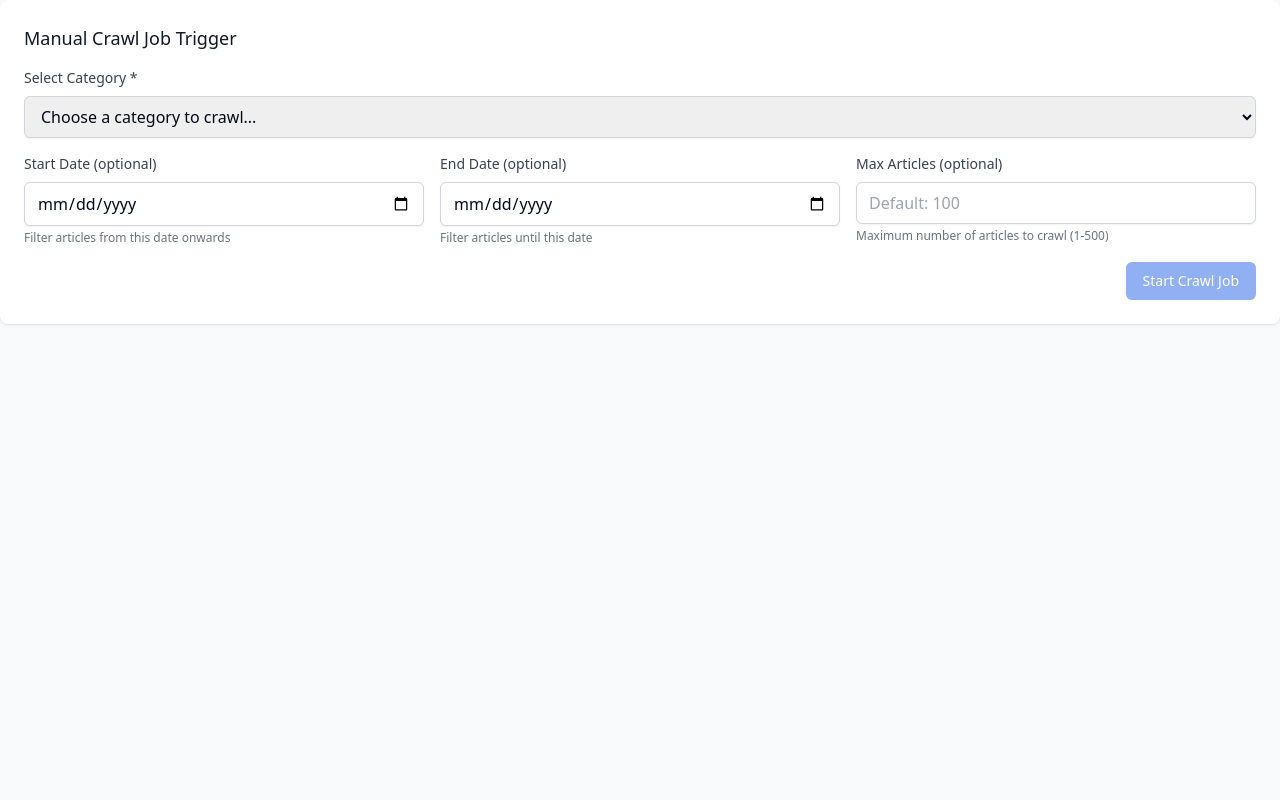
Test: ManualCrawlTrigger › should cancel confirmation dialog
Select "Technology (2 keywords)" in the dropdown labelled "Select Category *": {"x": 640, "y": 117} left=24, top=96, right=1256, bottom=138
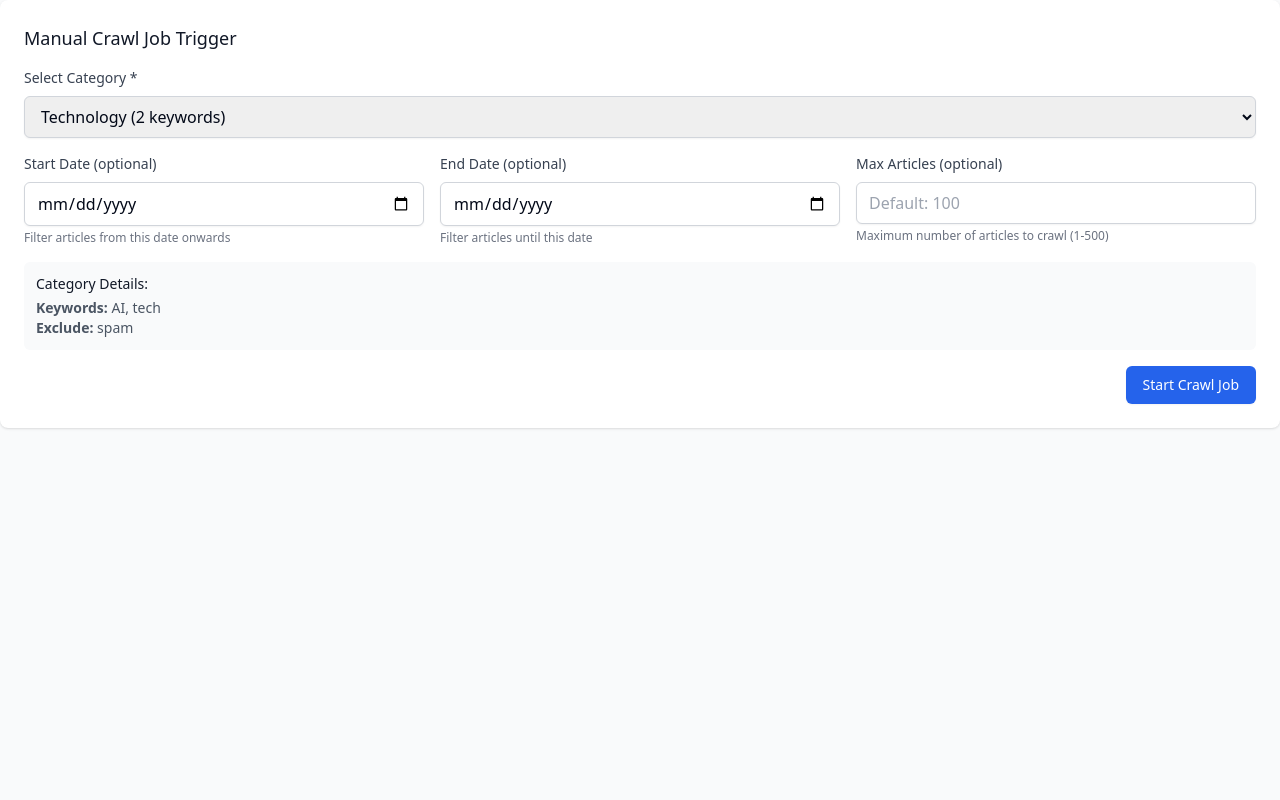
Click the button "Start Crawl Job": {"x": 1191, "y": 385} left=1126, top=366, right=1256, bottom=404
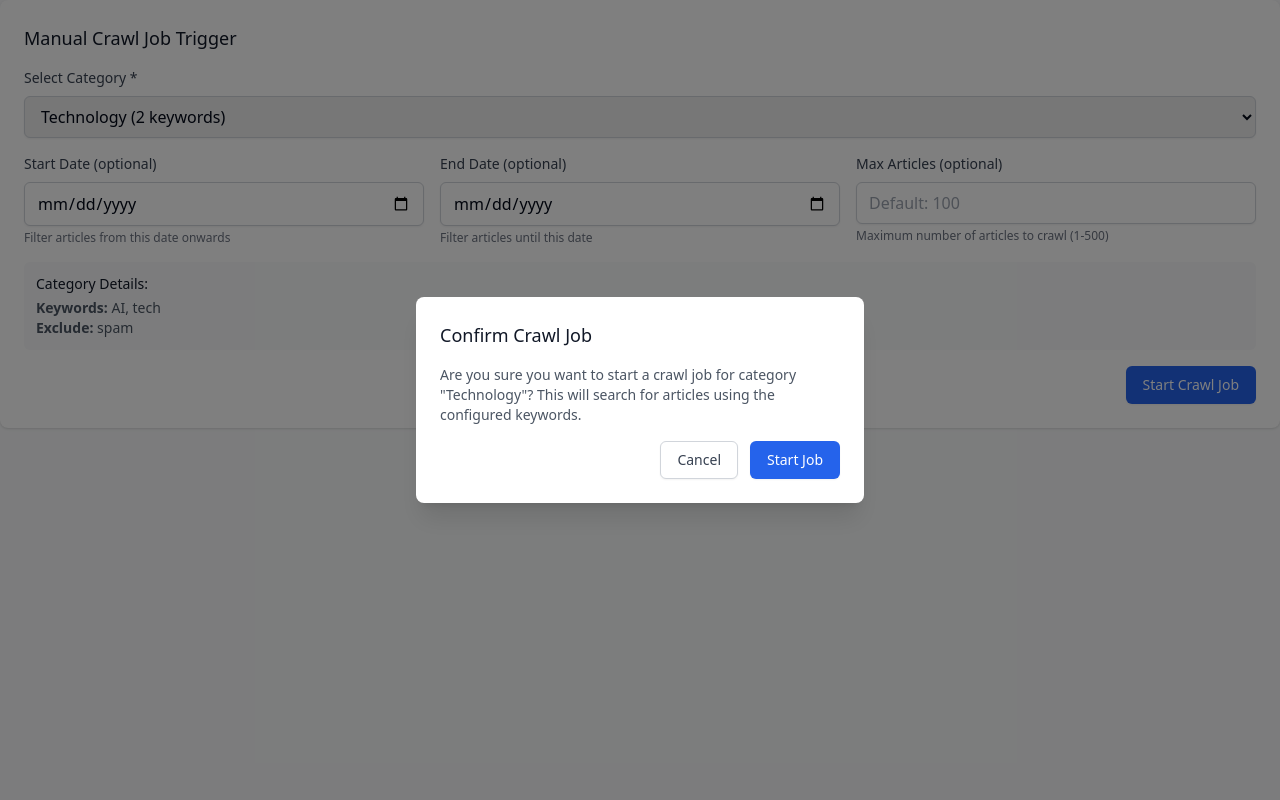
Click the button "Cancel": {"x": 699, "y": 460} left=660, top=441, right=738, bottom=479
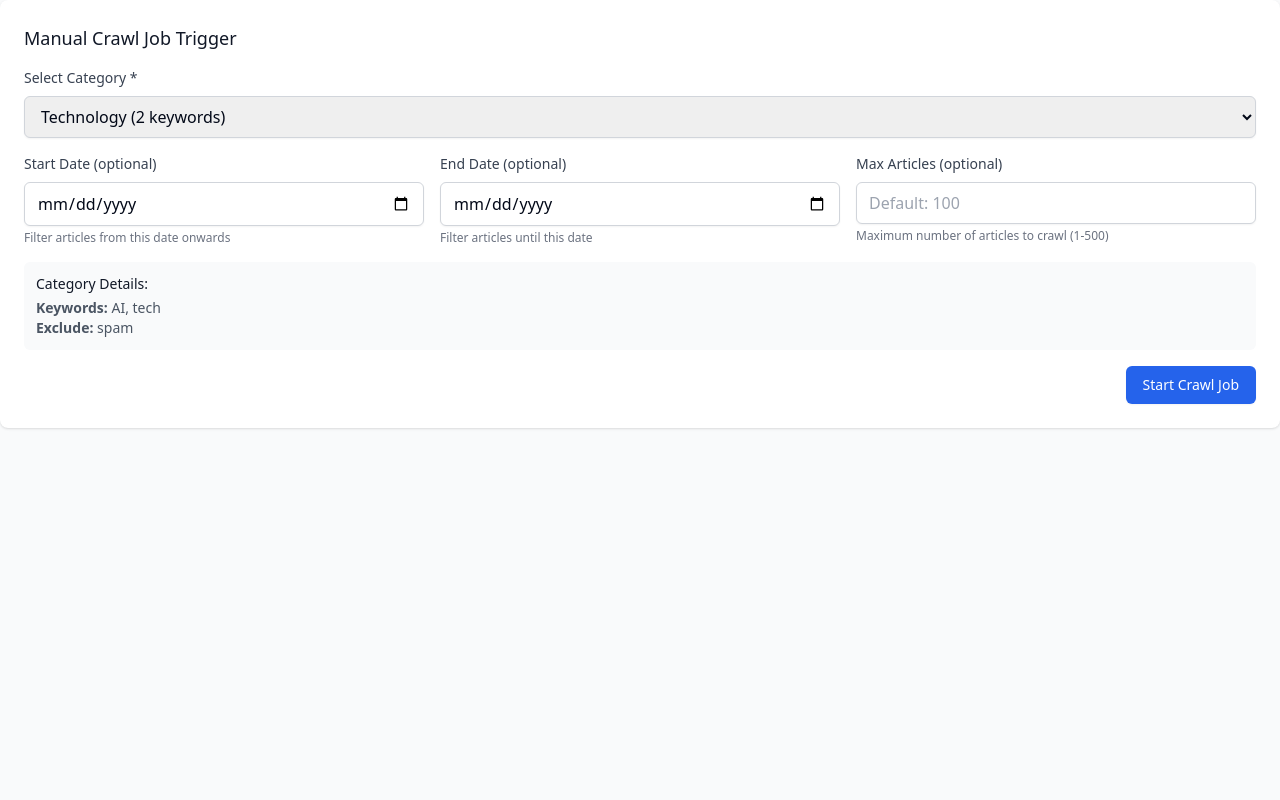
Expected: the heading "Confirm Crawl Job" is gone
